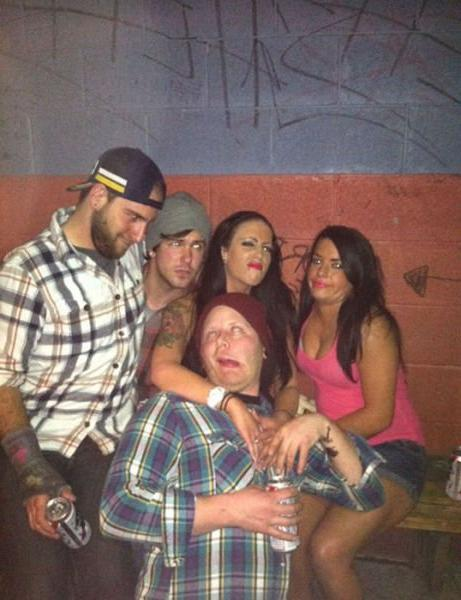Drunk: (205, 308, 258, 387), (108, 190, 151, 262), (228, 219, 273, 287), (305, 239, 346, 306), (163, 224, 202, 284)
